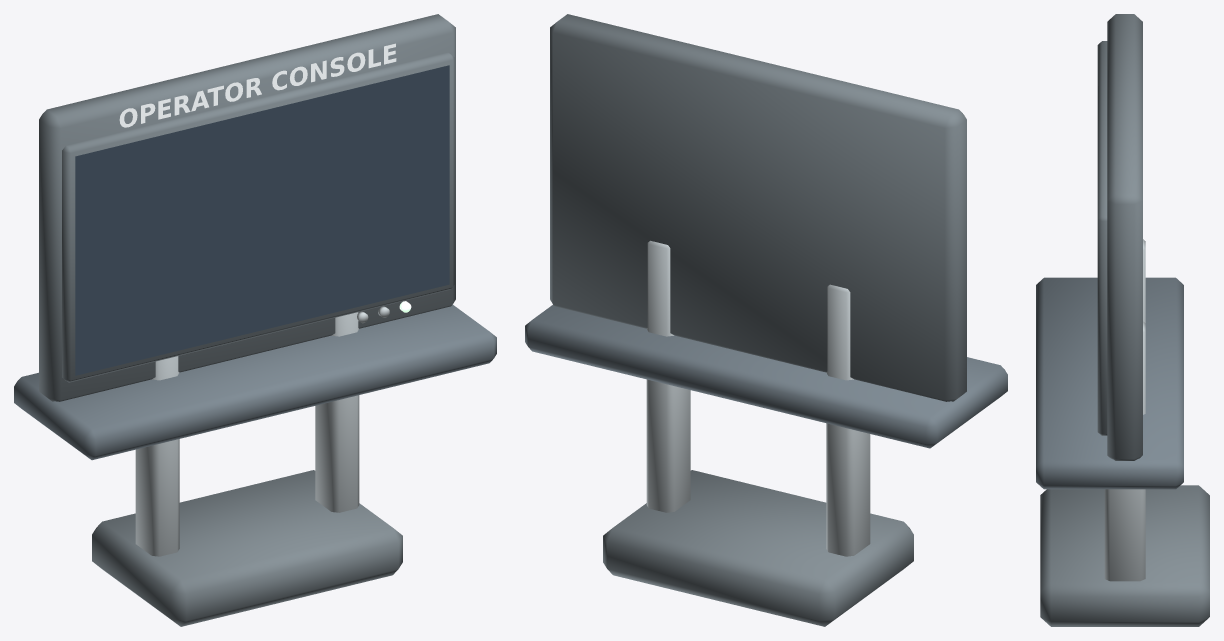
The model's file is operator_console_standard.glb.
3 renders of one model, left to right at view 1: azimuth 30°, elevation 25°; view 2: azimuth 150°, elevation 25°; view 3: azimuth 270°, elevation 25°, orthographic. The views are drawn at different scales.
Visible parts, largest first — view 1: LiveViewSurface_glass, Desk_graphite, Base_frame, DisplayHousing_frame, LiveViewSurfaceFrame_frame, Support_steel, TypeLabel_white; view 2: DisplayHousing_frame, Base_frame, Desk_graphite, Support_steel; view 3: Desk_graphite, Base_frame, DisplayHousing_frame, Support_steel, LiveViewSurfaceFrame_frame.
Part boxes in pixels (x1=…): LiveViewSurface_glass: x1=75, y1=65, x2=449, y2=375; Desk_graphite: x1=14, y1=305, x2=496, y2=460; Base_frame: x1=92, y1=470, x2=402, y2=626; DisplayHousing_frame: x1=39, y1=14, x2=455, y2=401; LiveViewSurfaceFrame_frame: x1=62, y1=52, x2=454, y2=382; Support_steel: x1=135, y1=312, x2=359, y2=556; TypeLabel_white: x1=119, y1=43, x2=396, y2=127; DisplayHousing_frame: x1=550, y1=14, x2=966, y2=401; Base_frame: x1=603, y1=470, x2=913, y2=626; Desk_graphite: x1=525, y1=305, x2=1007, y2=448; Support_steel: x1=646, y1=240, x2=870, y2=556; Desk_graphite: x1=1036, y1=277, x2=1183, y2=489; Base_frame: x1=1040, y1=485, x2=1209, y2=626; DisplayHousing_frame: x1=1107, y1=14, x2=1142, y2=460; Support_steel: x1=1104, y1=239, x2=1145, y2=581; LiveViewSurfaceFrame_frame: x1=1097, y1=41, x2=1107, y2=435.
Bounding box in the file's own units: 1.63 × 1.91 × 0.635.
